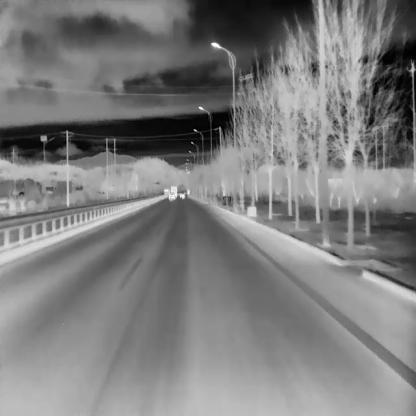car: (167, 191, 176, 200), (179, 191, 184, 197)
truck: (170, 186, 177, 198)
